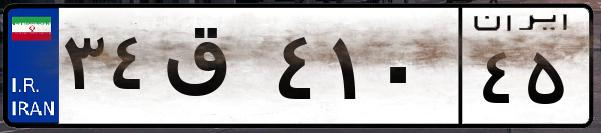0: (385, 28, 445, 110)
1: (330, 28, 385, 110)
3: (57, 26, 110, 100)
4: (270, 28, 330, 110), (475, 38, 525, 113), (110, 28, 158, 98)
5: (525, 38, 570, 115)
ق: (158, 20, 270, 120)
